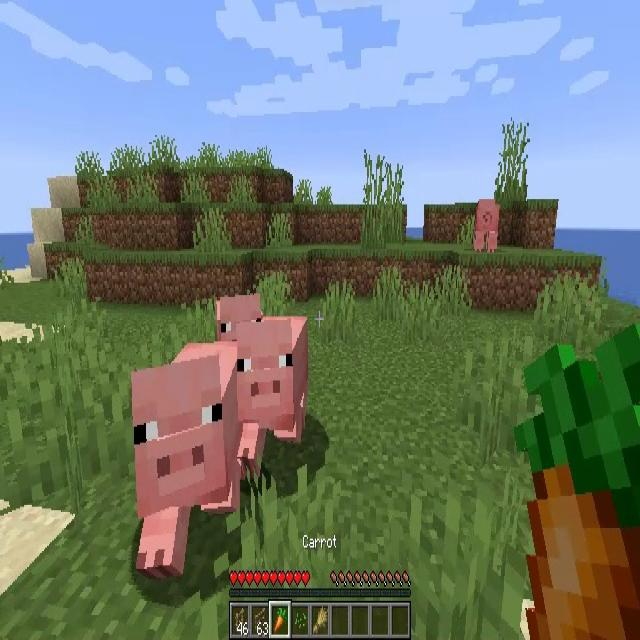pig: (134, 342, 241, 570), (239, 316, 309, 461), (212, 293, 266, 340), (474, 201, 500, 252)
